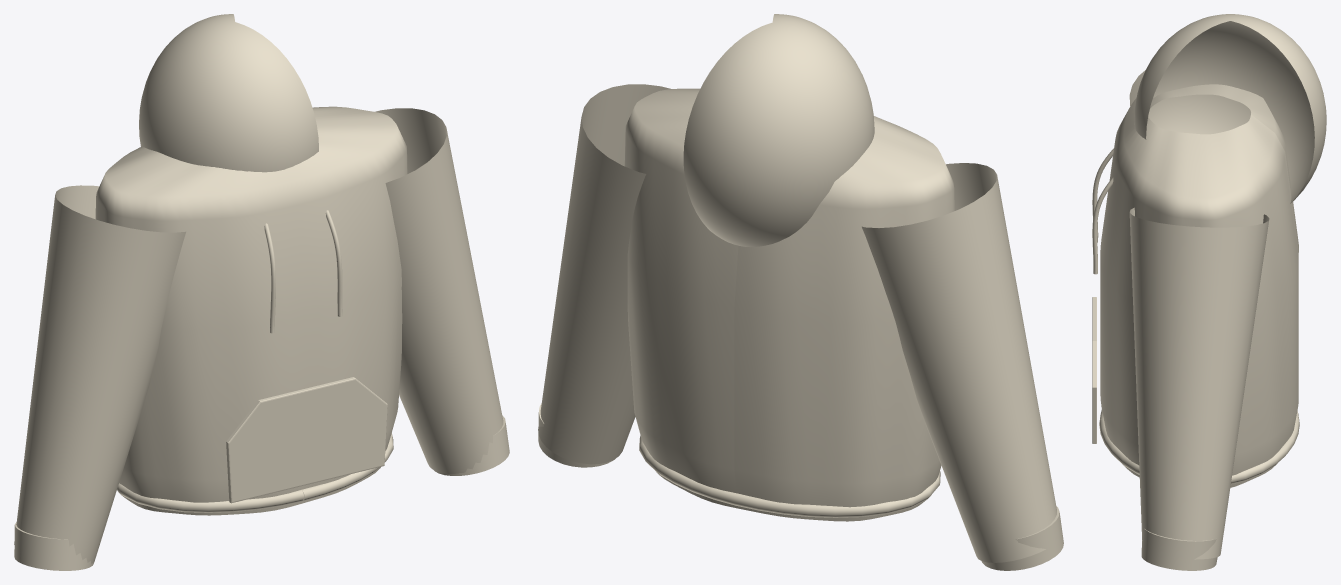
Rendered from hoodie-ecru-homme.glb.
3 views of the same model, side by side, from view 1: azimuth 30°, elevation 25°; view 2: azimuth 150°, elevation 25°; view 3: azimuth 270°, elevation 25° (orthographic). The views are drawn at different scales.
Visible parts, largest first — view 1: hoodie-ecru, long-sleeve (×2); view 2: hoodie-ecru, long-sleeve (×2); view 3: hoodie-ecru, long-sleeve.
Part boxes in pixels (box(x1,y1,x2,y2)): hoodie-ecru: box(14, 14, 509, 570); long-sleeve (×2): box(14, 108, 503, 563); hoodie-ecru: box(538, 14, 1063, 570); long-sleeve (×2): box(538, 84, 1056, 562); hoodie-ecru: box(1092, 14, 1326, 570); long-sleeve: box(1129, 207, 1269, 559).
Size of the model in its own units: 0.7702 by 0.7203 by 0.341.
